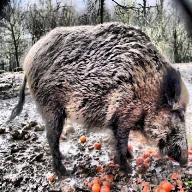boar: (16, 18, 192, 168)
